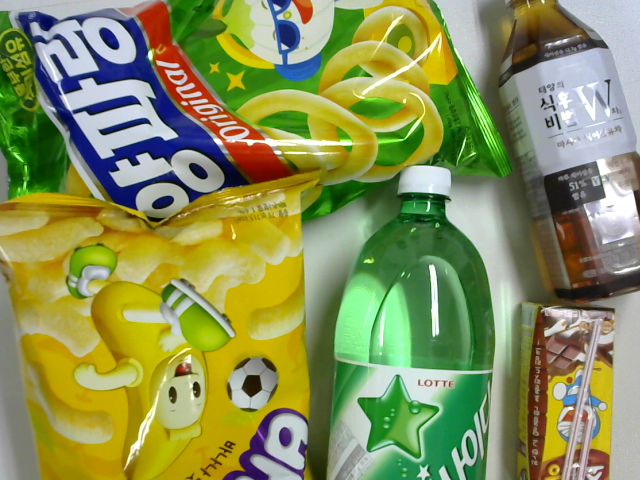Banana_Kick: (3, 182, 317, 480)
Chilseong_Cider_1.5L: (325, 166, 492, 480)
Choco_E_Mong: (511, 304, 616, 480)
Oninon_Ring: (3, 1, 509, 222)
Post-meal_recipe_W_tea_500ml: (497, 1, 640, 308)
